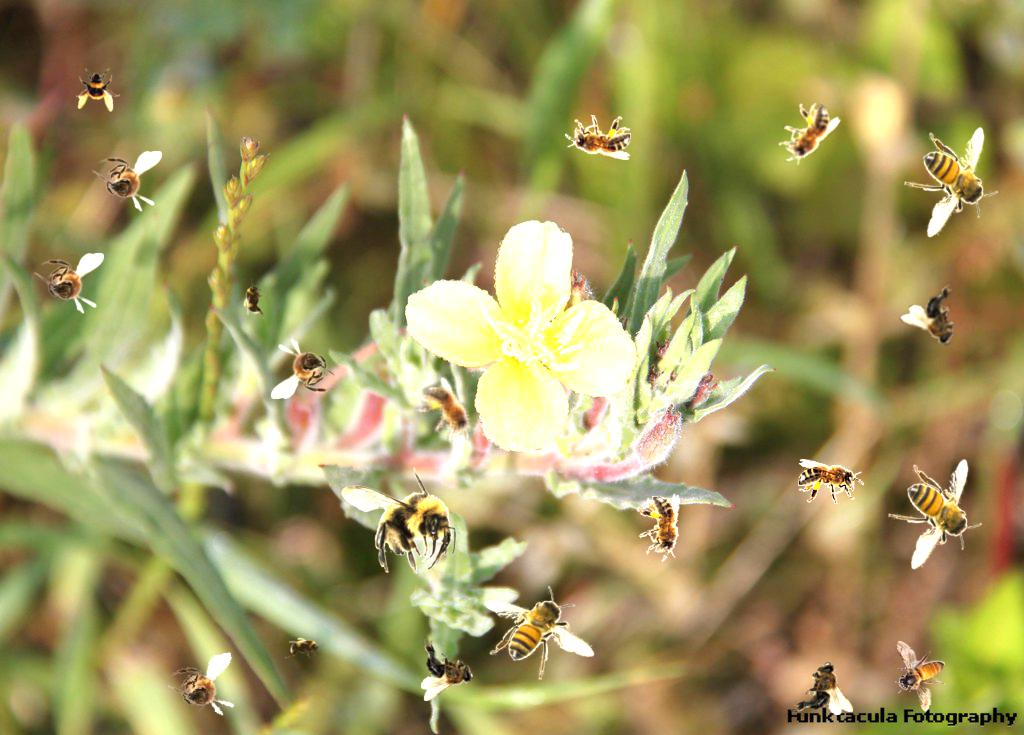Bee: (341, 467, 456, 574), (888, 459, 982, 570), (484, 586, 595, 680), (904, 127, 998, 238), (897, 279, 980, 359), (409, 373, 487, 454), (161, 651, 244, 727), (769, 94, 843, 175), (34, 253, 104, 314), (271, 338, 341, 399), (92, 151, 162, 212), (634, 492, 688, 565), (894, 640, 946, 713), (791, 662, 853, 715), (421, 639, 474, 701), (798, 459, 864, 504), (565, 115, 631, 160), (76, 68, 120, 112), (243, 279, 265, 319), (285, 637, 325, 659)
